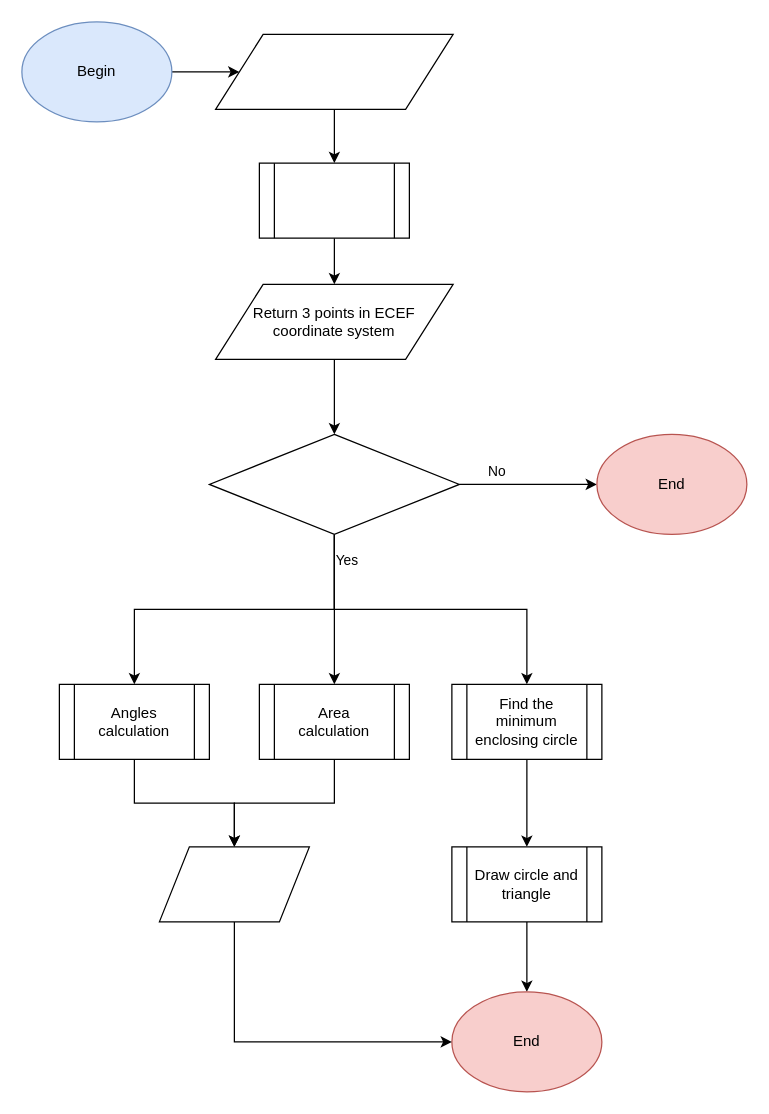
The diagram is 769 pixels wide and 1114 high, and some of its shapes have lost their labels. Each missing label, with the centre of its shape:
"Can a triangle be formed by those points?" goes at point (333, 483).
"Geodetic to ECEF coordinate conversion" goes at point (333, 200).
"Print result" goes at point (233, 884).
"Read 3 points in geodetic coordinate system" goes at point (333, 71).
